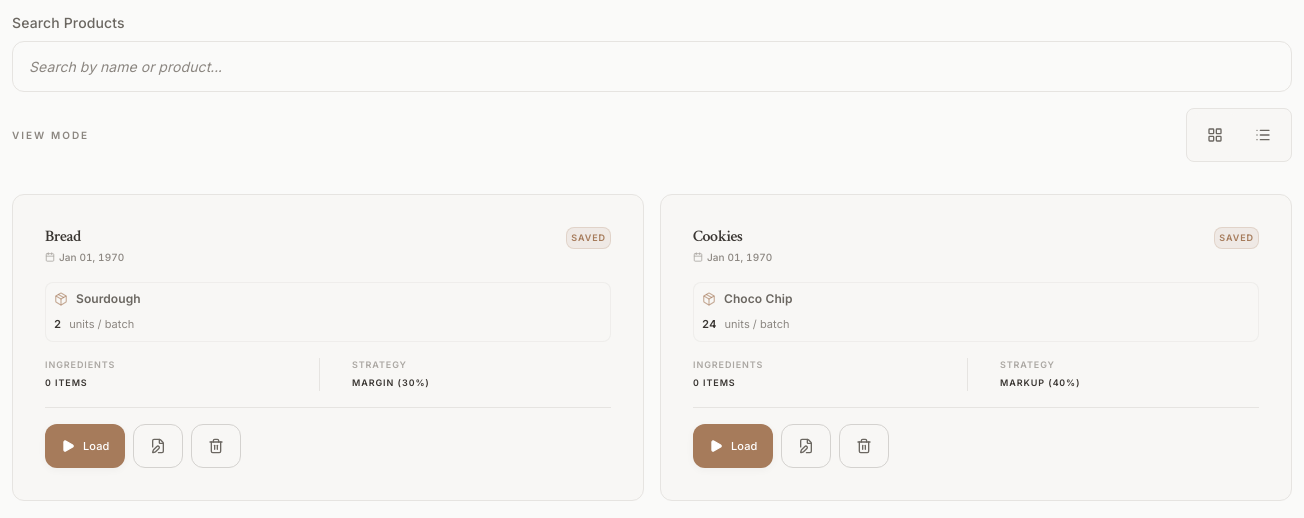
Test: PresetsList › filters presets based on search query
The image size is (1304, 518).
Type "cook" into the field with placeholder "Search by name or product...".
click(652, 66); type("cook")  # box x1=12 y1=41 x2=1292 y2=92
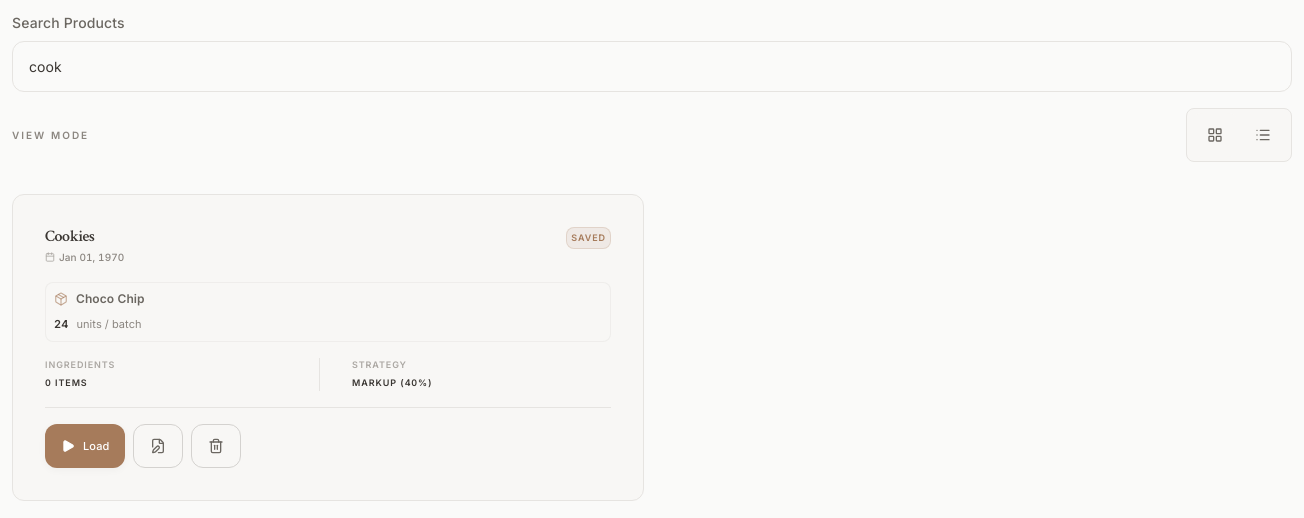
Expected: the heading "Cookies" is shown, x1=45 y1=226 x2=94 y2=247
Expected: the heading "Bread" is gone
